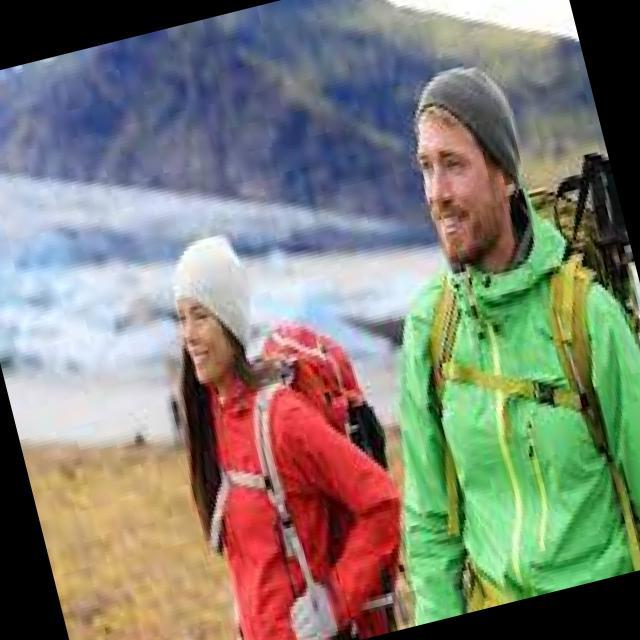jacket: (400, 191, 640, 638), (204, 379, 403, 640)
